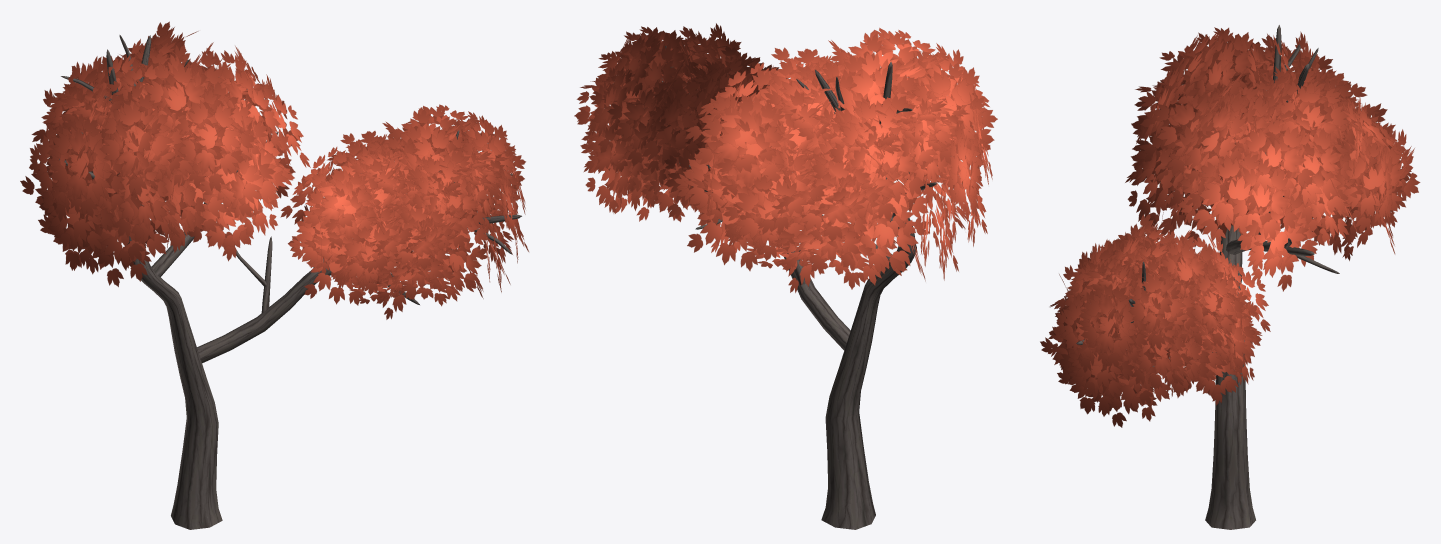
Rendered from quaternius-nature-maple-1.glb.
3 views of the same model, side by side, from view 1: azimuth 30°, elevation 25°; view 2: azimuth 150°, elevation 25°; view 3: azimuth 270°, elevation 25° (orthographic). The views are drawn at different scales.
Visible parts, largest first — view 1: MapleTree_1; view 2: MapleTree_1; view 3: MapleTree_1.
Part boxes in pixels (x1=…): MapleTree_1: x1=20, y1=21, x2=528, y2=529; MapleTree_1: x1=574, y1=23, x2=997, y2=529; MapleTree_1: x1=1040, y1=25, x2=1420, y2=529.
Bounding box in the file's own units: 6.23 × 6.64 × 4.9.
Materials: 2 (2 with a texture image).
